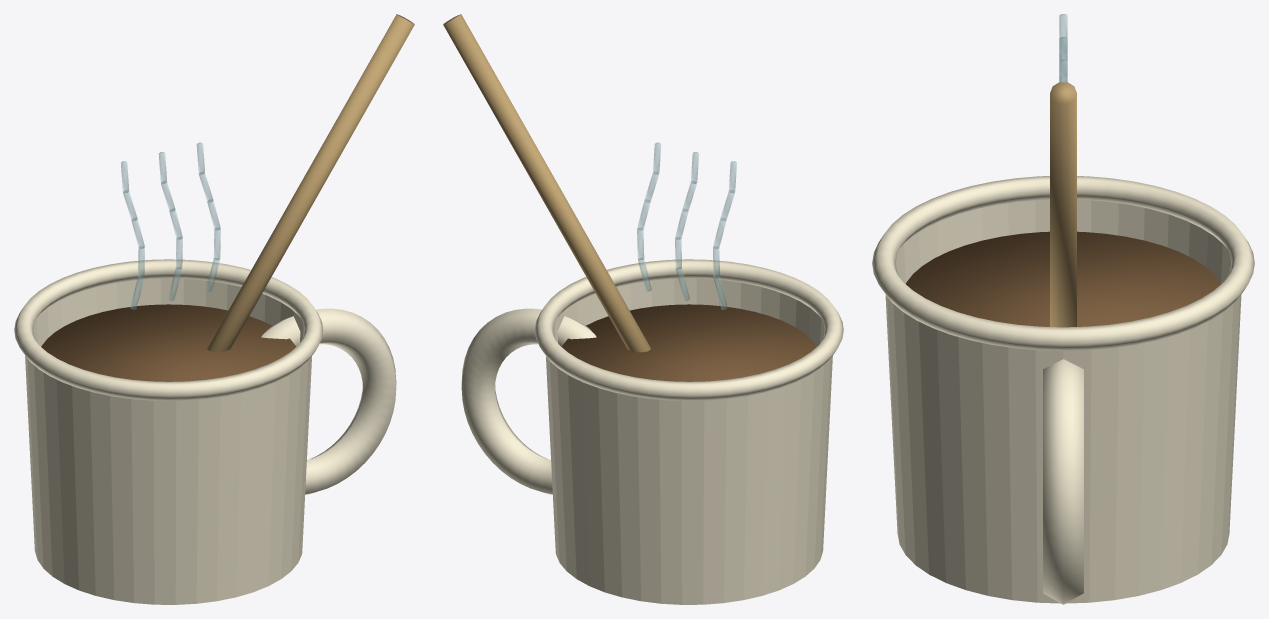
Rendered from heat.glb.
The picture shows the model from 3 angles, left to right: view 1: azimuth 30°, elevation 25°; view 2: azimuth 150°, elevation 25°; view 3: azimuth 270°, elevation 25°; orthographic projection. The views are drawn at different scales.
Parts seen in each view (by area): view 1: heat_ceramic_mug, heat_drink, heat_mug_rim, heat_mug_handle, heat_metal_spoon_handle; view 2: heat_ceramic_mug, heat_drink, heat_mug_rim, heat_mug_handle, heat_metal_spoon_handle; view 3: heat_ceramic_mug, heat_drink, heat_mug_rim, heat_mug_handle, heat_metal_spoon_handle.
Part boxes in pixels (bbox=[...]): heat_ceramic_mug: bbox=[25, 278, 311, 604]; heat_drink: bbox=[41, 304, 295, 381]; heat_mug_rim: bbox=[14, 259, 323, 400]; heat_mug_handle: bbox=[261, 308, 396, 494]; heat_metal_spoon_handle: bbox=[207, 14, 414, 352]; heat_ceramic_mug: bbox=[546, 278, 832, 604]; heat_drink: bbox=[562, 304, 816, 381]; heat_mug_rim: bbox=[534, 259, 843, 400]; heat_mug_handle: bbox=[461, 308, 596, 494]; heat_metal_spoon_handle: bbox=[443, 14, 650, 352]; heat_ceramic_mug: bbox=[885, 199, 1241, 603]; heat_drink: bbox=[906, 231, 1220, 326]; heat_mug_rim: bbox=[872, 176, 1254, 350]; heat_mug_handle: bbox=[1043, 359, 1083, 604]; heat_metal_spoon_handle: bbox=[1050, 82, 1076, 327].
Size of the model in its own units: 1.6 by 1.92 by 1.13.
